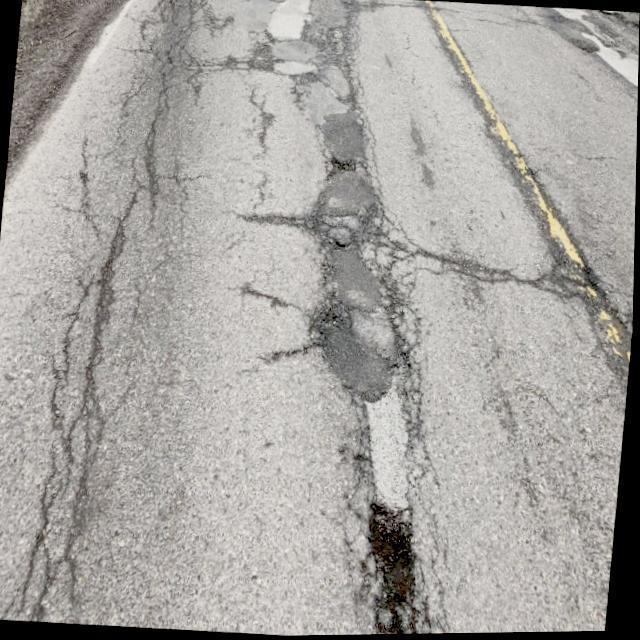Pothole: (367, 500, 421, 634)
